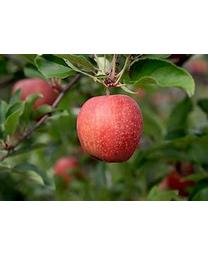apple: (76, 94, 144, 163), (12, 78, 55, 110)
